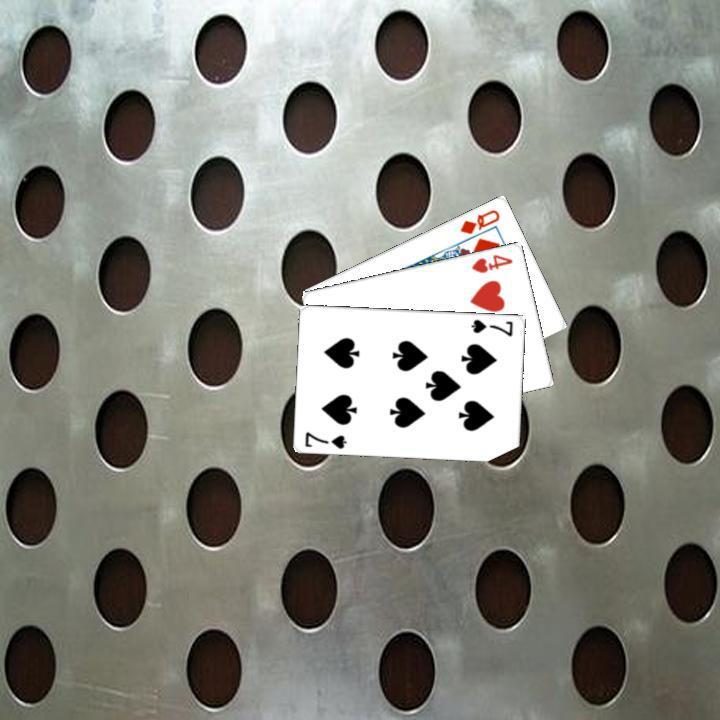4: (467, 249, 515, 275)
7: (467, 315, 515, 338), (301, 427, 349, 450)
Q: (456, 204, 502, 236)
